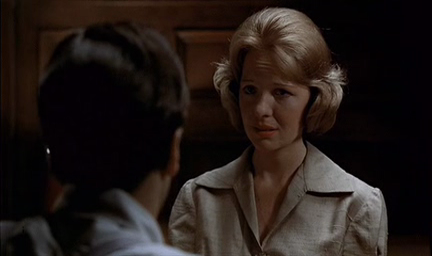face: (239, 67, 305, 153)
mcu: (1, 1, 432, 256)
ots: (1, 18, 207, 256)
person: (169, 6, 387, 256)
